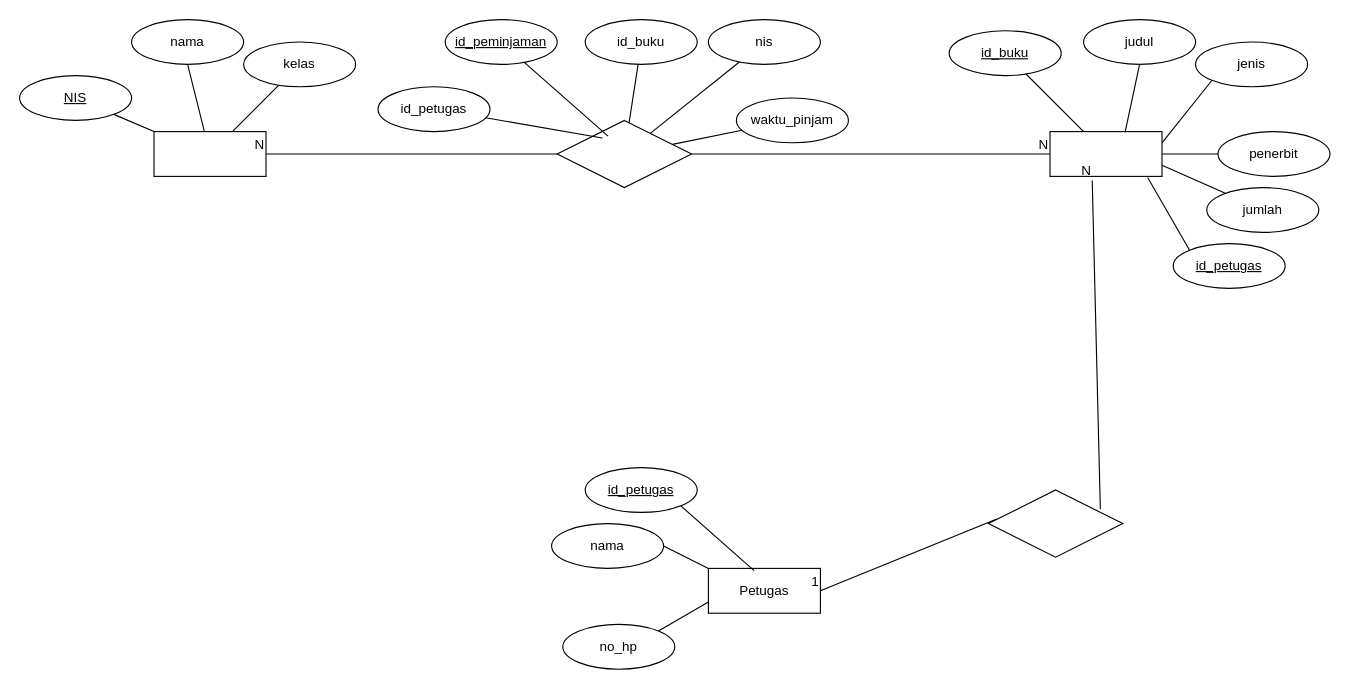
The diagram is 1350 pixels wide and 689 high, and some of its shapes have lost their labels. Here are the shapes that lost their labels. From the top down, the box of each, then its label:
(153, 130, 266, 176): Siswa
(556, 119, 692, 188): Meminjam
(1049, 130, 1162, 176): Buku
(987, 489, 1123, 557): Mengelola
